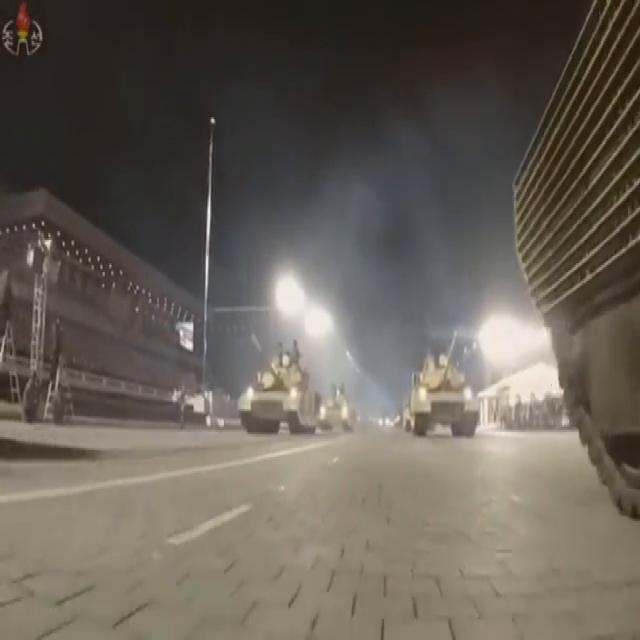north tank: (387, 324, 498, 480), (231, 315, 345, 440)
